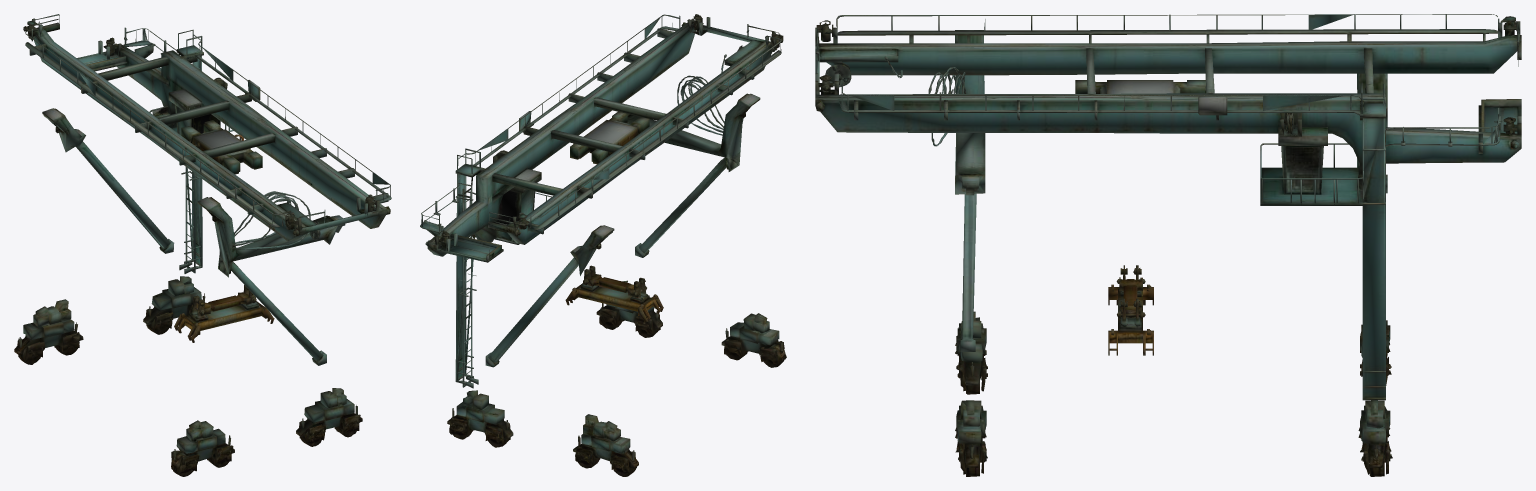
The model's file is gantryCrane.glb.
3 renders of one model, left to right at view 1: azimuth 30°, elevation 25°; view 2: azimuth 150°, elevation 25°; view 3: azimuth 270°, elevation 25°, orthographic. The views are drawn at different scales.
Visible parts, largest first — view 1: tripo_node_c583760d-4173-4d3d-accf-711c7b1bb8c7; view 2: tripo_node_c583760d-4173-4d3d-accf-711c7b1bb8c7; view 3: tripo_node_c583760d-4173-4d3d-accf-711c7b1bb8c7.
Boxes of the visible parts, <box> form: tripo_node_c583760d-4173-4d3d-accf-711c7b1bb8c7: <box>14,14,391,476</box>; tripo_node_c583760d-4173-4d3d-accf-711c7b1bb8c7: <box>420,14,786,476</box>; tripo_node_c583760d-4173-4d3d-accf-711c7b1bb8c7: <box>815,14,1521,476</box>.
Size of the model in its own units: 0.4121 by 0.5996 by 0.998.
Materials: 1 (1 with a texture image).
